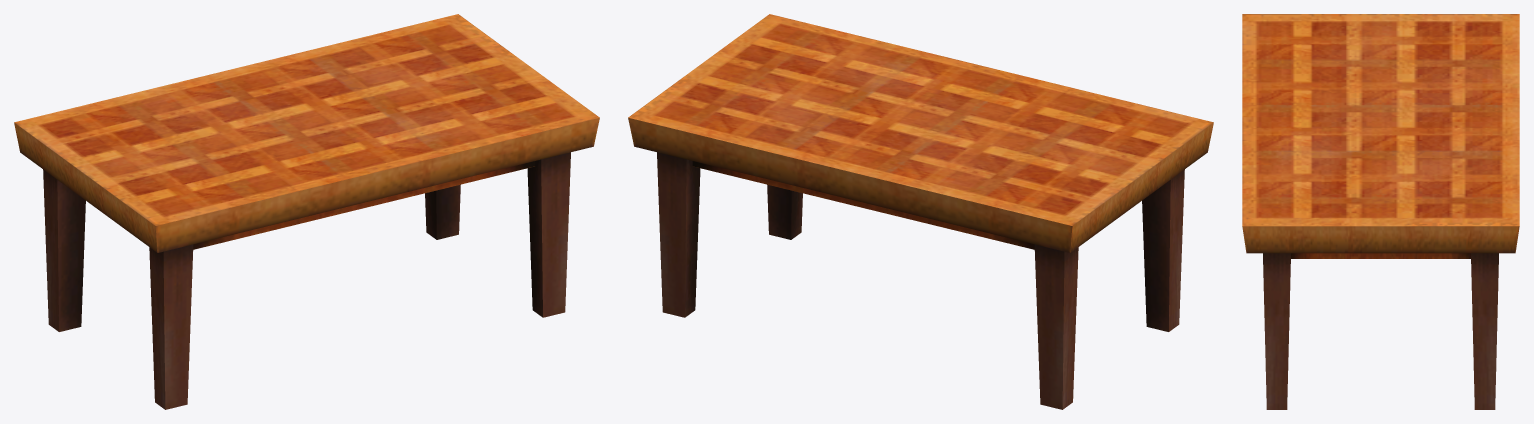
The model's file is diningroom_table.fbx.
The picture shows the model from 3 angles, left to right: view 1: azimuth 30°, elevation 25°; view 2: azimuth 150°, elevation 25°; view 3: azimuth 270°, elevation 25°; orthographic projection. The views are drawn at different scales.
Visible parts, largest first — view 1: mesh_0; view 2: mesh_0; view 3: mesh_0.
Part boxes in pixels (x1,y1,x2,y2): mesh_0: [14, 14, 599, 409]; mesh_0: [628, 14, 1213, 409]; mesh_0: [1242, 14, 1519, 409].
Size of the model in its own units: 180 by 76.75 by 99.28.
Materials: 1 (1 with a texture image).
